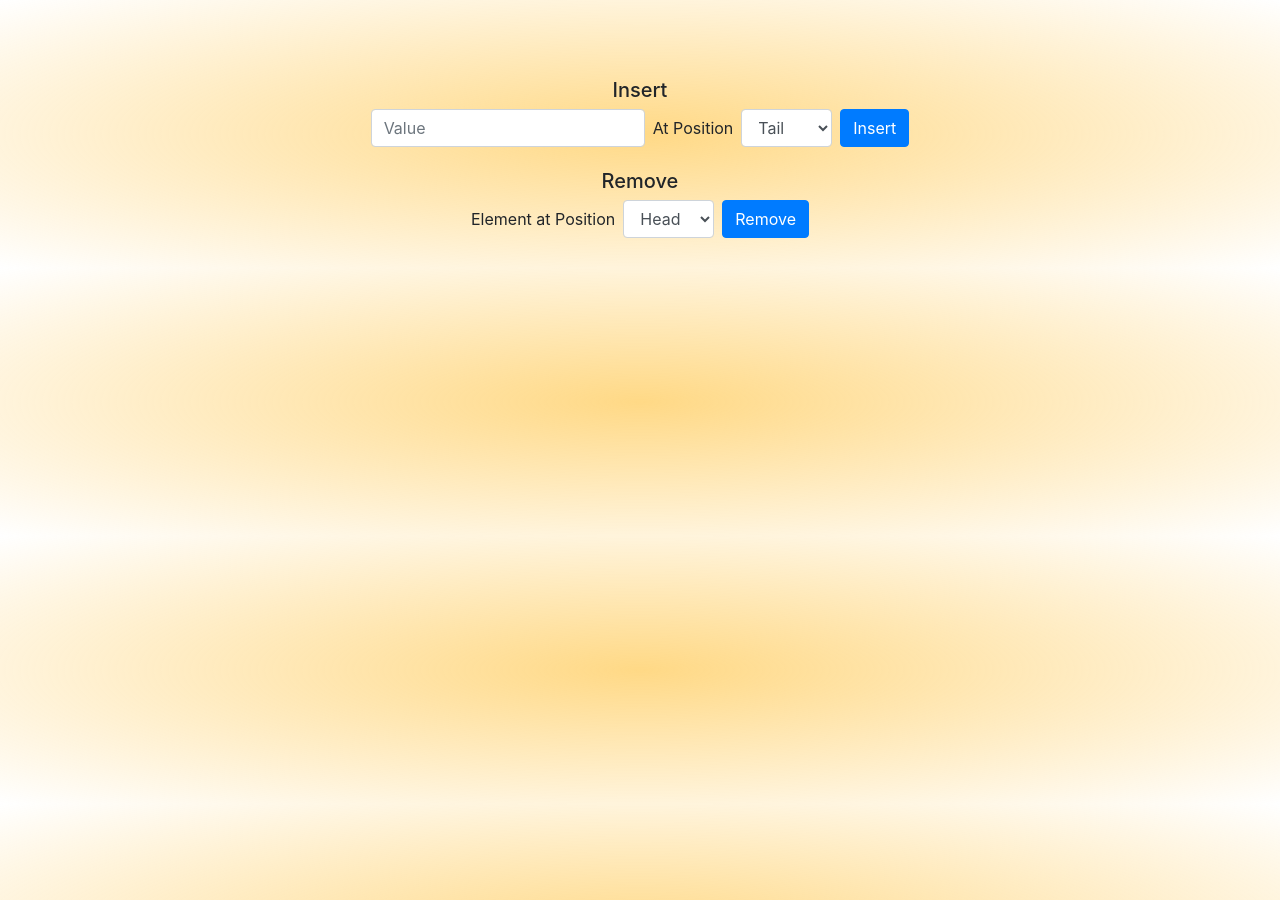
allows users to insert items in list
Type "one" into the field with placeholder "Value" at (508, 128), box [371, 109, 645, 147]
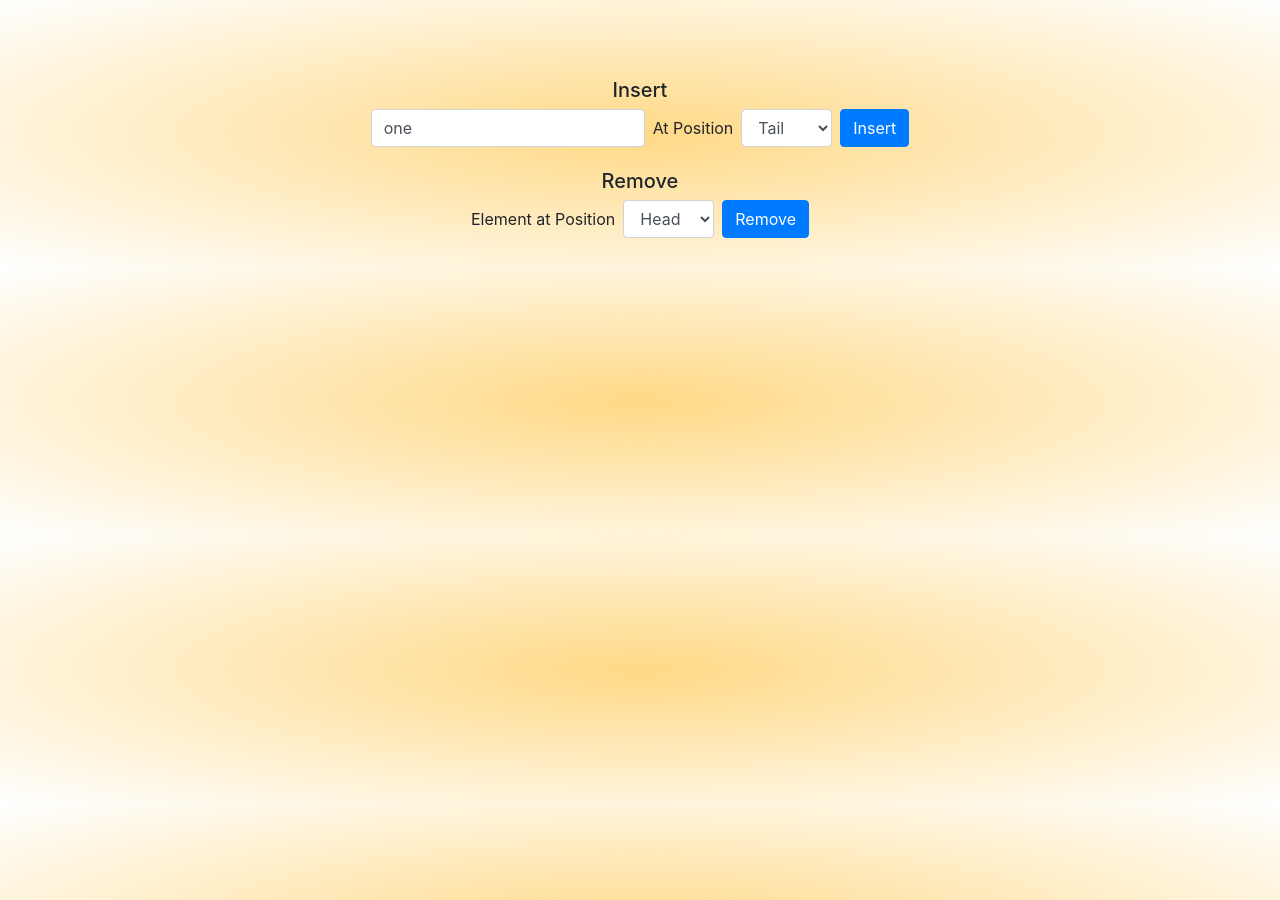
Click the button "Insert" at (875, 128), box [840, 109, 909, 147]
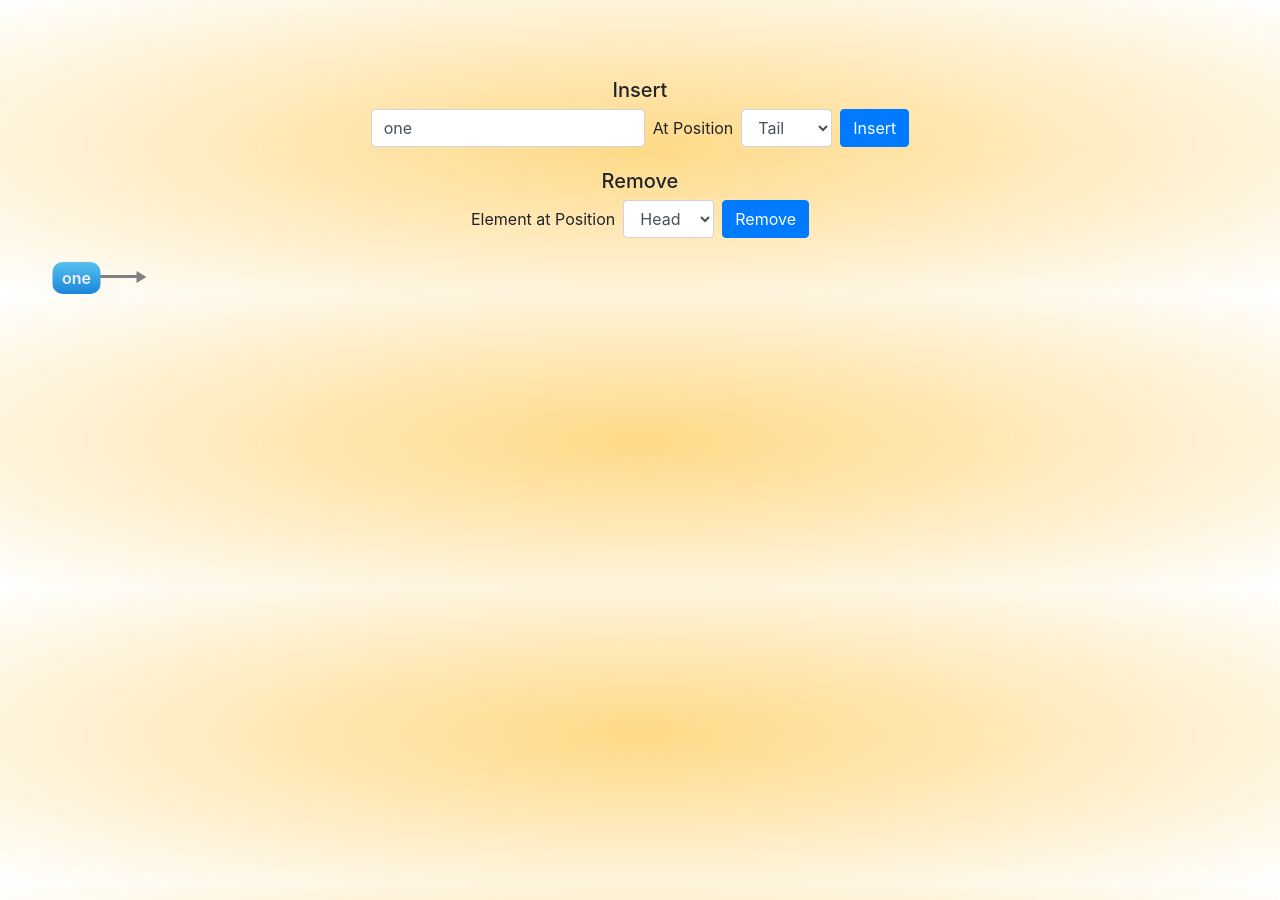
Result: the text "one" is shown at [52, 262, 100, 294]
